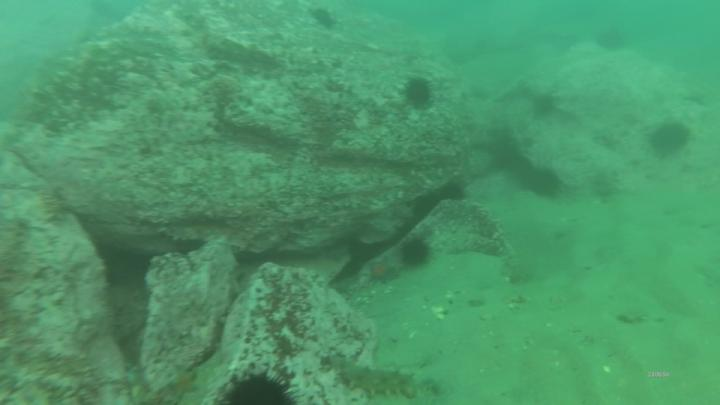echinus: (220, 371, 303, 405), (653, 117, 693, 155), (403, 74, 438, 113), (399, 236, 430, 273), (536, 165, 563, 199), (311, 8, 344, 32), (531, 90, 555, 120)
holothurian: (329, 357, 423, 402)
starfish: (169, 369, 202, 399), (369, 256, 398, 286)
